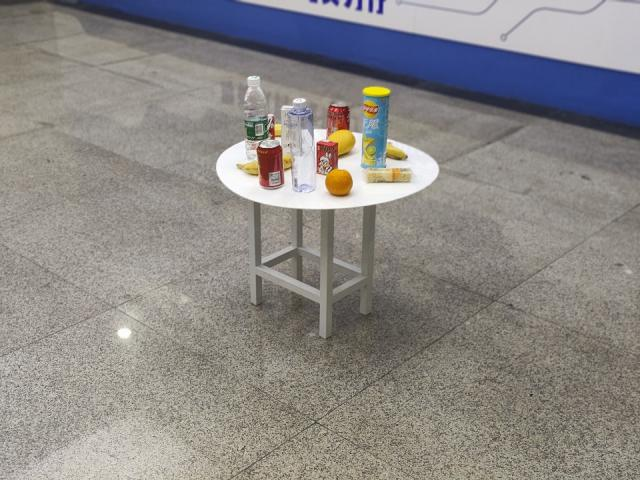Canned_drinks: (255, 142, 283, 188), (328, 102, 348, 131)
bottle: (287, 99, 321, 193), (241, 75, 267, 138)
cylinder: (361, 88, 388, 166)
drink_box: (319, 140, 337, 172)
